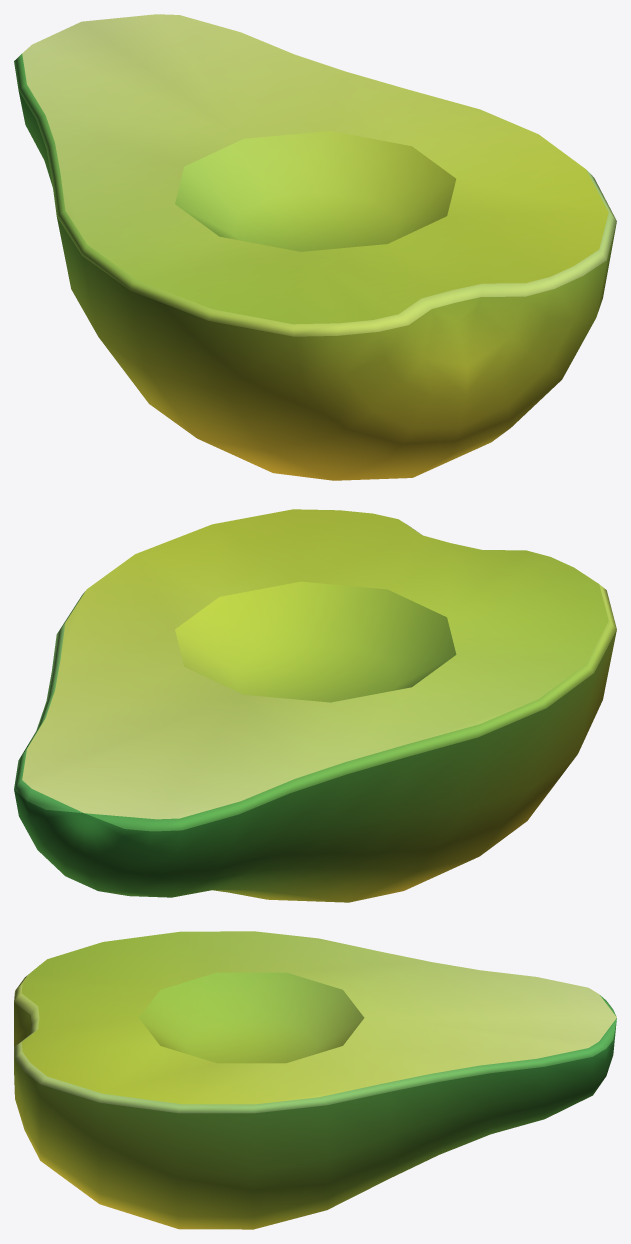
Rendered from avocado_002.fbx.
The picture shows the model from 3 angles, top to bottom: view 1: azimuth 30°, elevation 25°; view 2: azimuth 150°, elevation 25°; view 3: azimuth 270°, elevation 25°; orthographic projection. The views are drawn at different scales.
Visible parts, largest first — view 1: avocado_002; view 2: avocado_002; view 3: avocado_002.
Part boxes in pixels (x1=…): avocado_002: x1=14, y1=14, x2=616, y2=480; avocado_002: x1=14, y1=509, x2=616, y2=902; avocado_002: x1=14, y1=931, x2=616, y2=1229.
Bounding box in the file's own units: 9.74 × 13.96 × 4.9.
